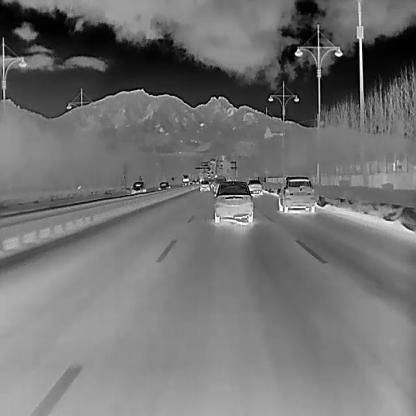car: (212, 180, 253, 223), (275, 175, 315, 212), (246, 178, 262, 195), (213, 176, 226, 194), (130, 180, 146, 194), (198, 178, 209, 191), (157, 180, 171, 190), (210, 171, 214, 174), (207, 170, 210, 173)
truck: (182, 170, 192, 184)
